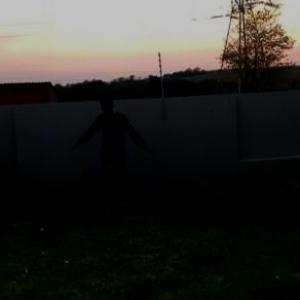land: (73, 102, 153, 214)
